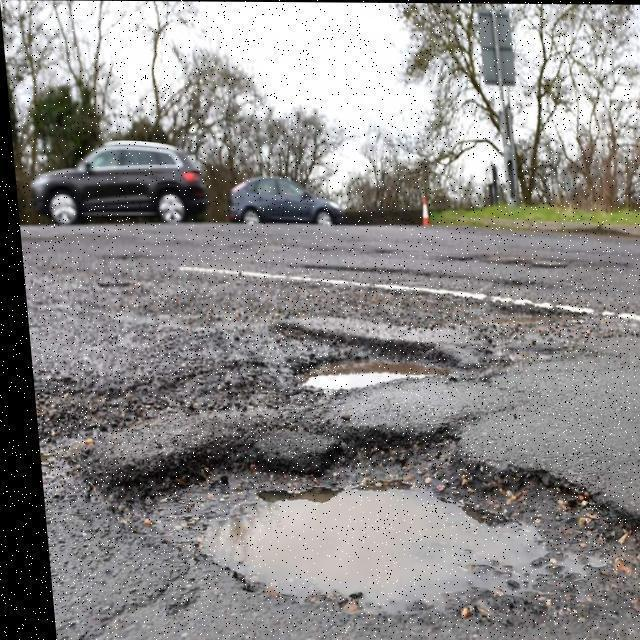Pothole: (80, 417, 640, 627), (265, 317, 474, 393)
